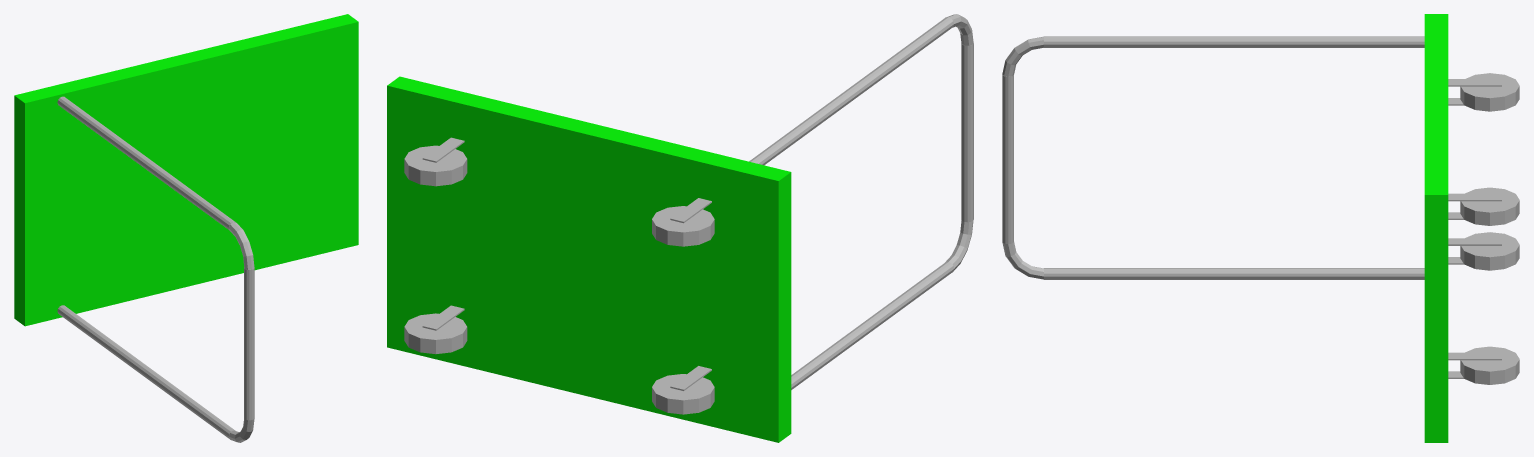
Rendered from nil_link_mesh.dae.
The picture shows the model from 3 angles, left to right: view 1: azimuth 30°, elevation 25°; view 2: azimuth 150°, elevation 25°; view 3: azimuth 270°, elevation 25°; orthographic projection. The views are drawn at different scales.
Parts seen in each view (by area): view 1: nil_link (×6); view 2: nil_link (×9); view 3: nil_link (×10).
Part boxes in pixels (x1,y1,x2,y2): nil_link (×6): [14, 14, 358, 442]; nil_link (×9): [387, 17, 973, 442]; nil_link (×10): [1002, 14, 1519, 442].
Bounding box in the file's own units: 0.72 × 0.46 × 0.87.
